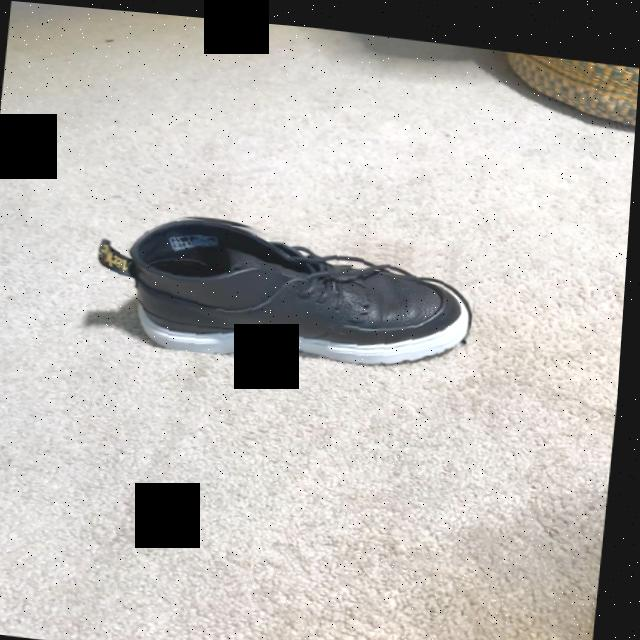shoe: (109, 215, 476, 358)
